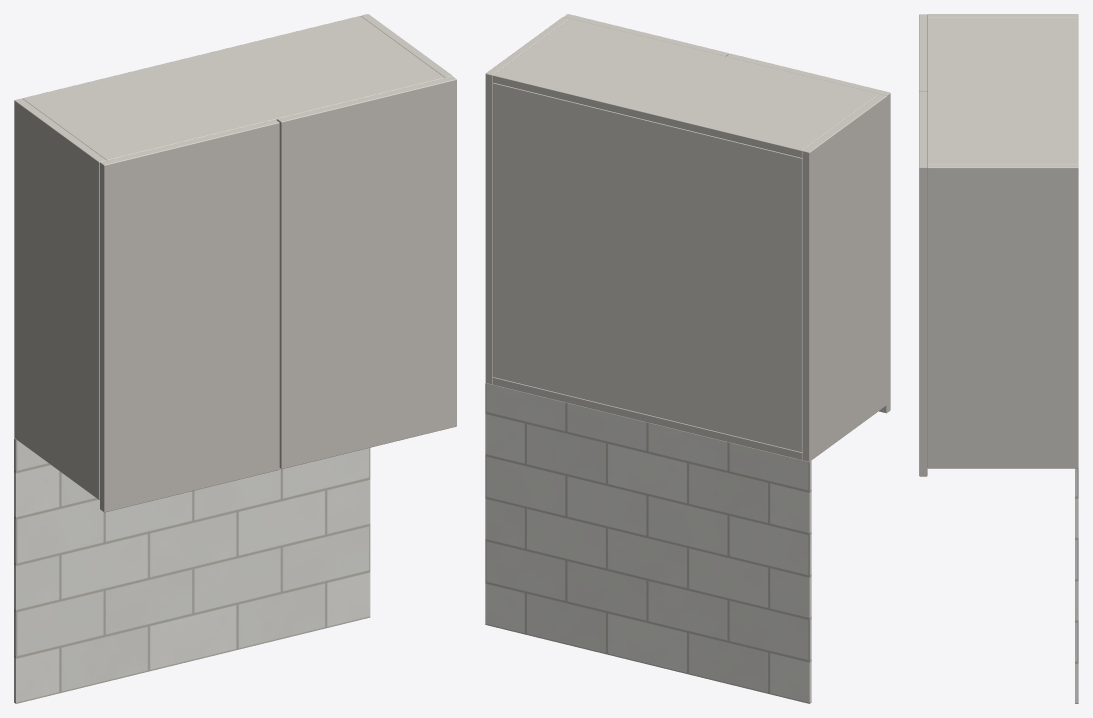
Rendered from upper_cabinet_80.glb.
The picture shows the model from 3 angles, left to right: view 1: azimuth 30°, elevation 25°; view 2: azimuth 150°, elevation 25°; view 3: azimuth 270°, elevation 25°; orthographic projection. The views are drawn at different scales.
Visible parts, largest first — view 1: upper_cabinet_80_doors, upper_cabinet_80_backsplash, upper_cabinet_80_carcass; view 2: upper_cabinet_80_carcass, upper_cabinet_80_backsplash, upper_cabinet_80_doors; view 3: upper_cabinet_80_carcass, upper_cabinet_80_doors, upper_cabinet_80_backsplash.
Part boxes in pixels (x1,y1,x2,y2): upper_cabinet_80_doors: (100, 76, 456, 512); upper_cabinet_80_backsplash: (14, 438, 370, 703); upper_cabinet_80_carcass: (14, 14, 452, 499); upper_cabinet_80_carcass: (485, 17, 886, 461); upper_cabinet_80_backsplash: (485, 383, 811, 703); upper_cabinet_80_doors: (564, 14, 890, 413); upper_cabinet_80_carcass: (927, 14, 1078, 468); upper_cabinet_80_doors: (919, 14, 927, 476); upper_cabinet_80_backsplash: (1075, 468, 1078, 703).
Size of the model in its own units: 0.8 by 1.3 by 0.35.
5 materials, 1 textured.
